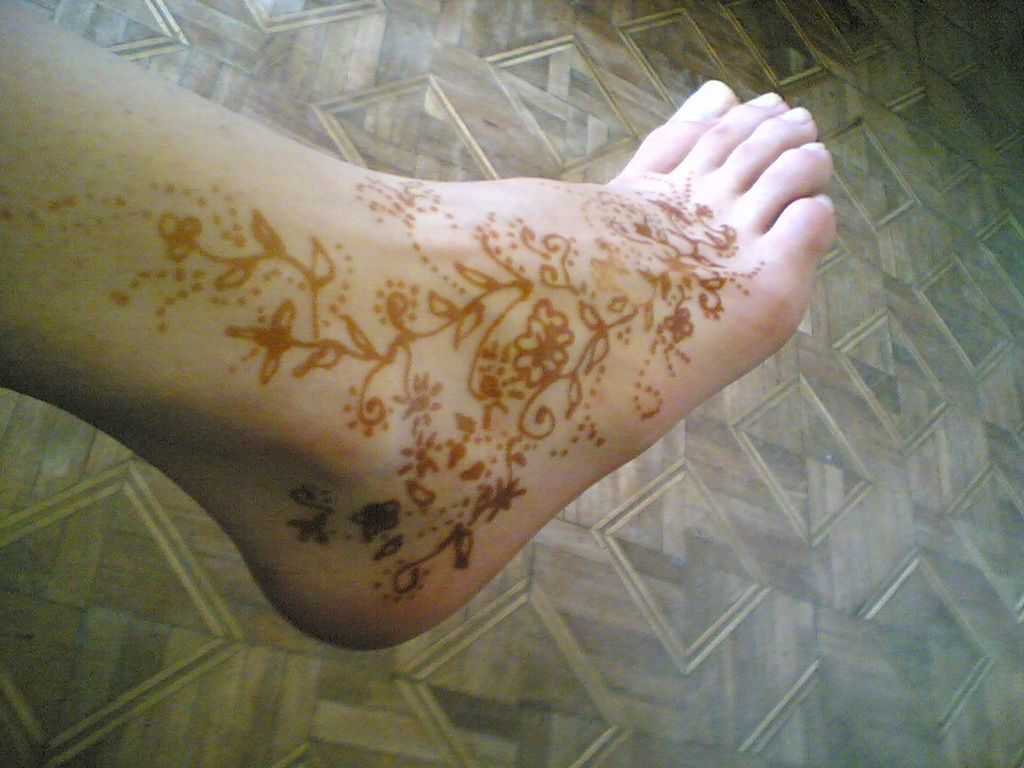Person: (0, 0, 835, 649)
